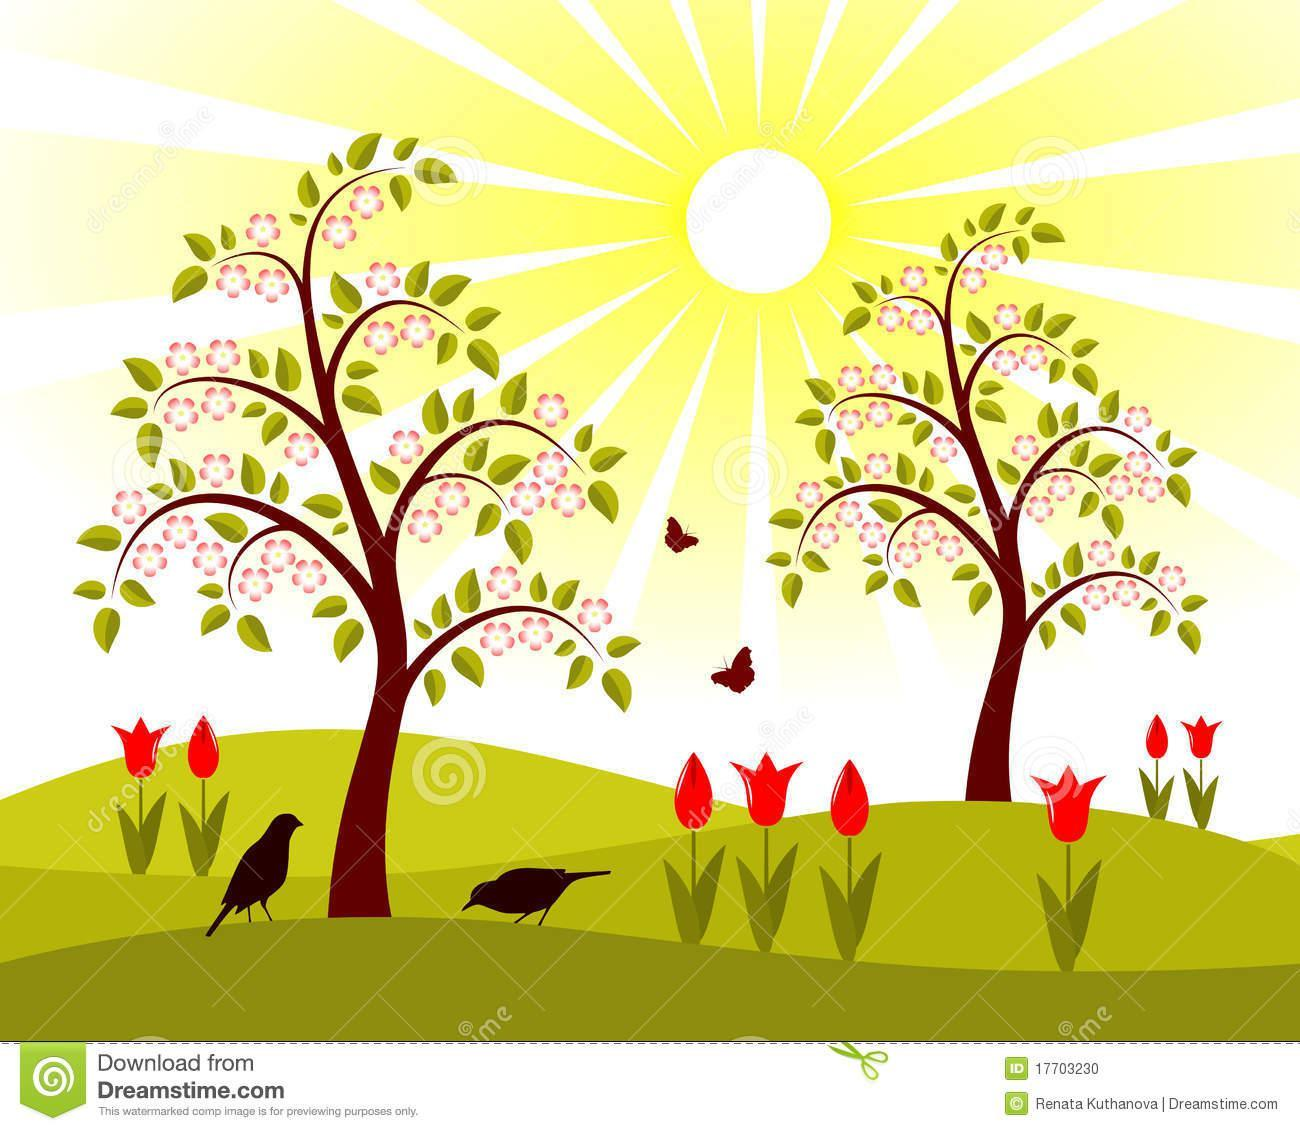bird: (208, 808, 308, 935), (460, 859, 612, 930)
